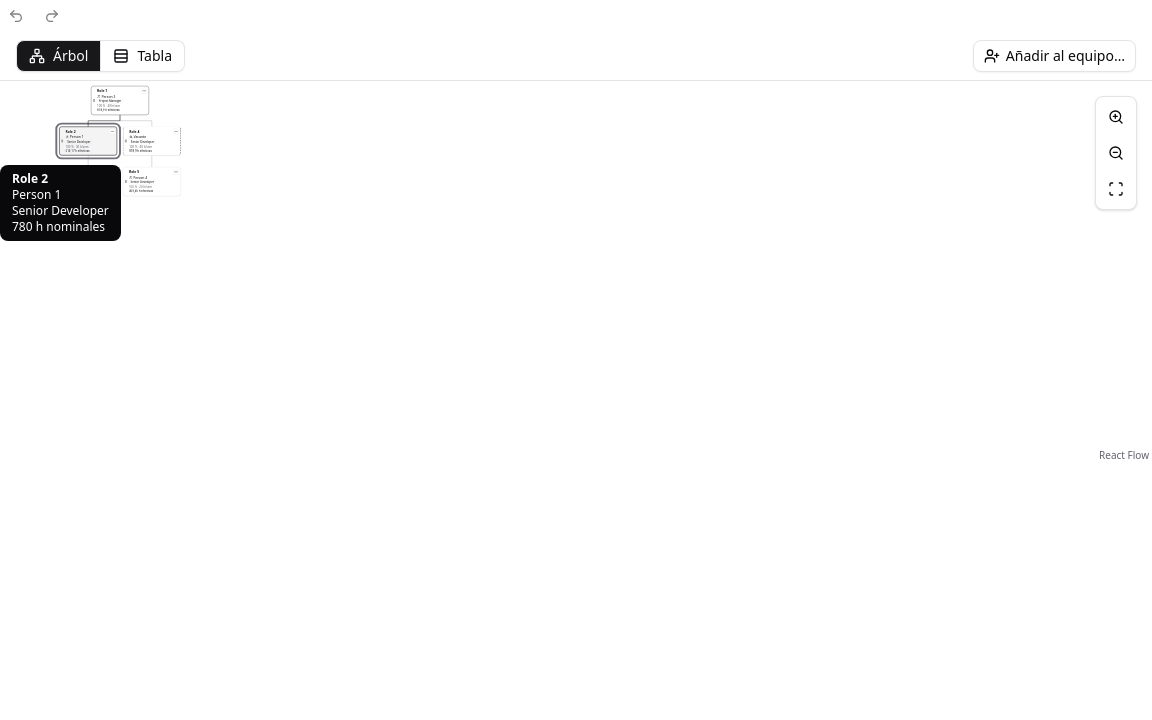
Test case: the team's menus › ties each problem to its field, and saves nothing when nothing changed
Press Enter
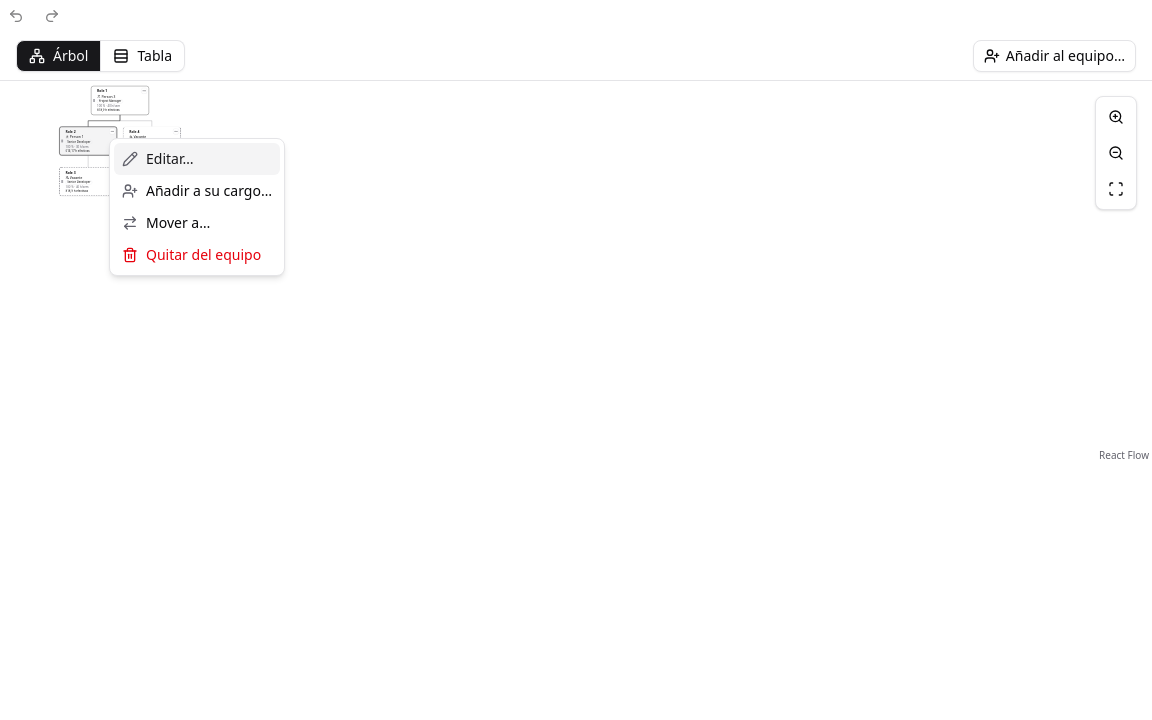
Click the menu item "Editar…": (197, 159) [114,143,280,175]
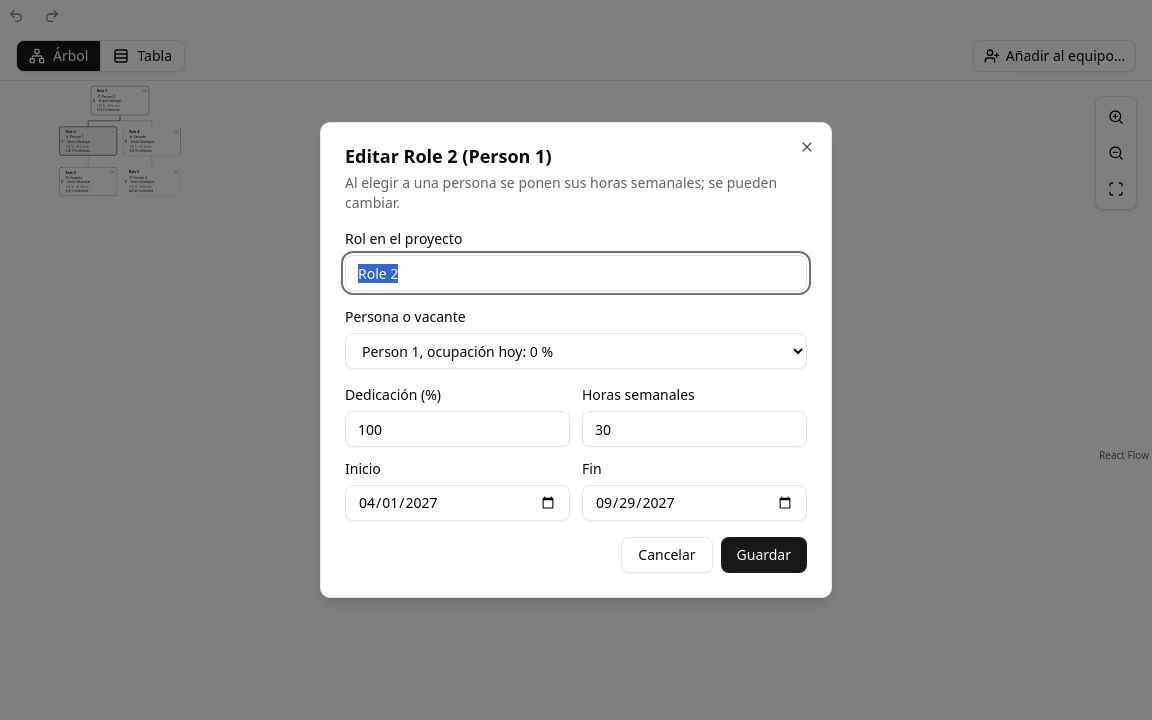
Replace the text in the field labelled "Dedicación (%)" with "150": (458, 429) [345,411,570,447]
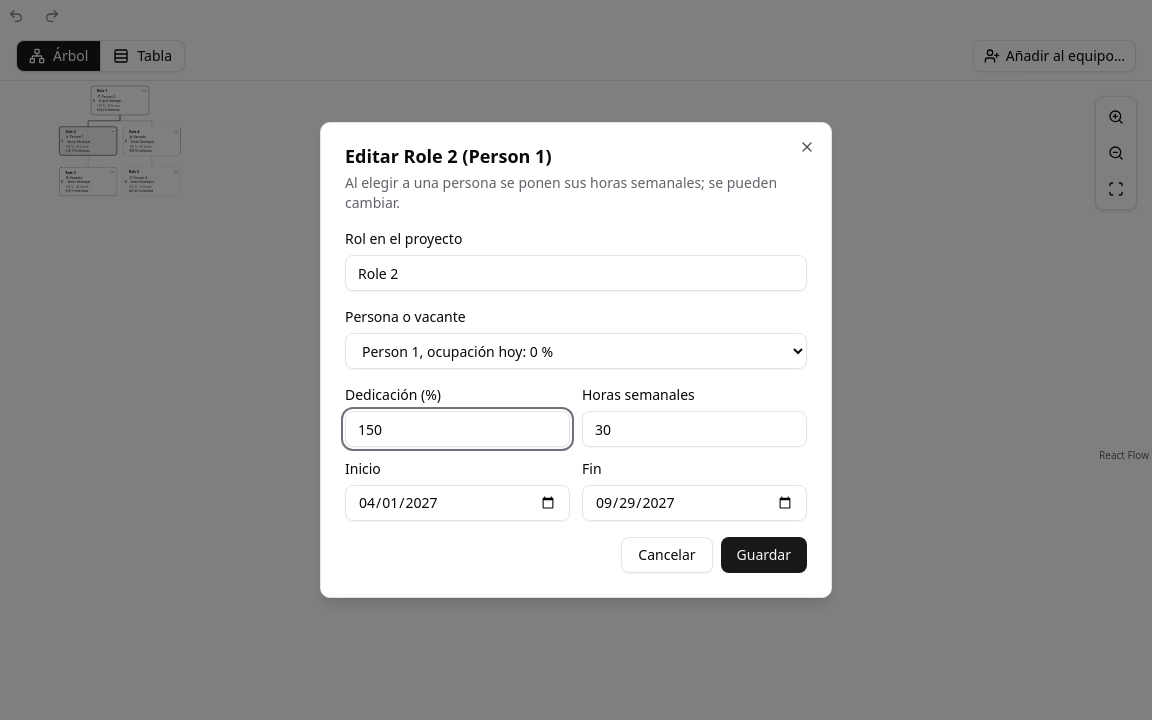
Click the button "Guardar": (764, 555) [720,537,807,573]
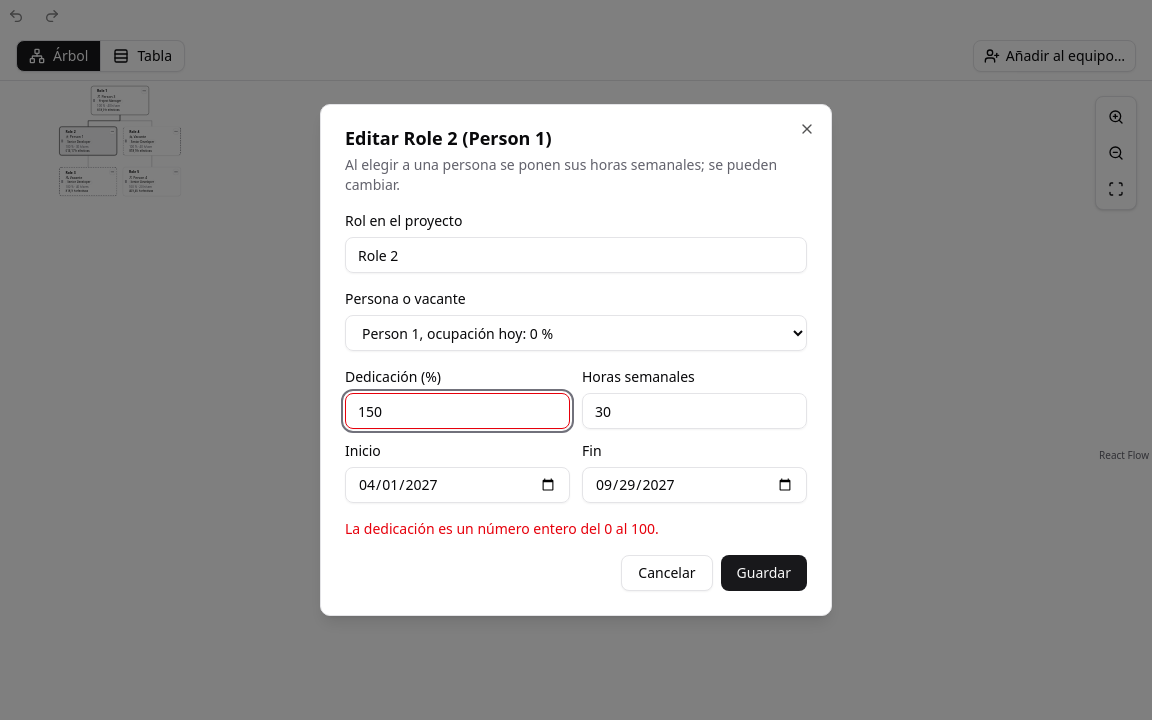
Expected: the message reads "La dedicación es un número entero del 0 al 100.", [345,519,659,538]
Clear the field labelled "Dedicación (%)": (458, 411) [345,393,570,429]
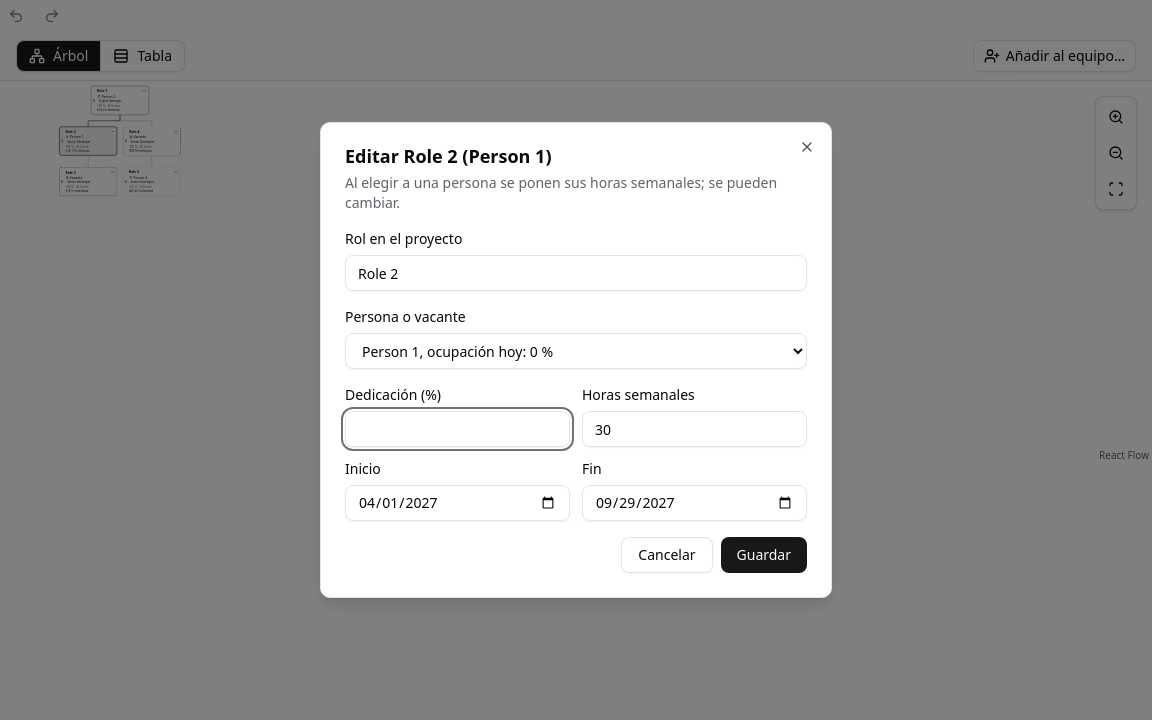
In the field labelled "Dedicación (%)": (458, 429) [345,411,570,447], type "100"
Click the button "Guardar": (764, 555) [720,537,807,573]
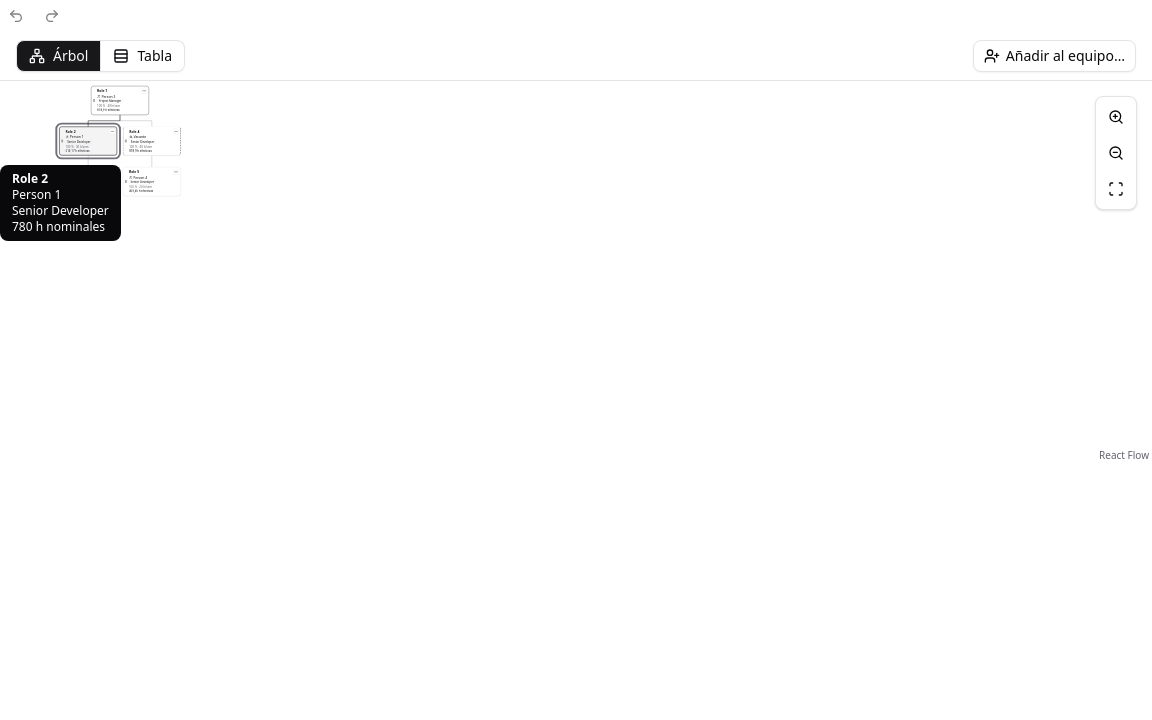
Expected: the dialog is gone
